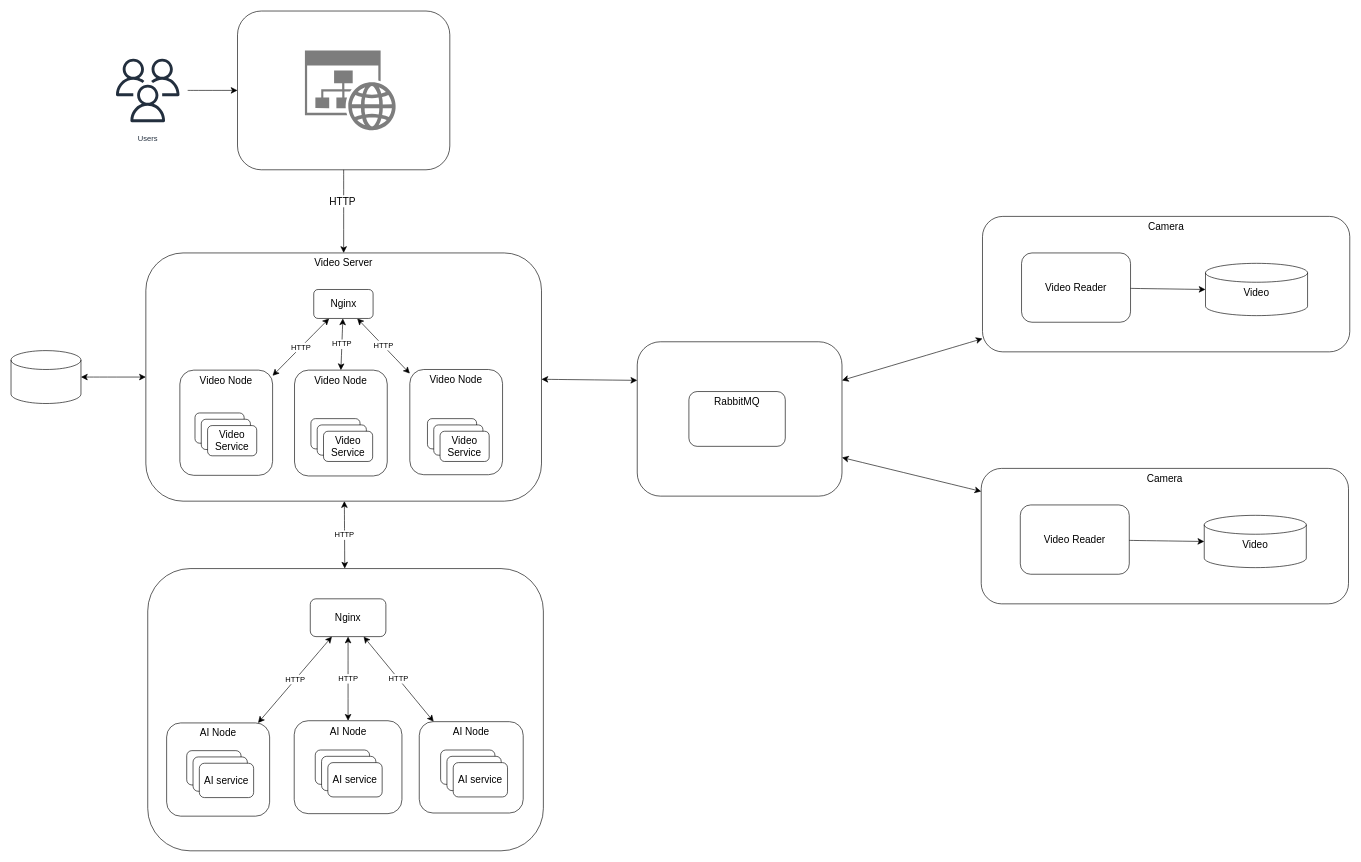
Image size: 1361x862. Some labels were removed from this diagram. The box of each missing label's shape, as (x1, y1, x2, y2) in pixels:
AI server: (147, 568, 543, 851)
DB: (10, 350, 81, 404)
Message Broker: (637, 341, 842, 496)
Web Server Node: (237, 10, 450, 170)
